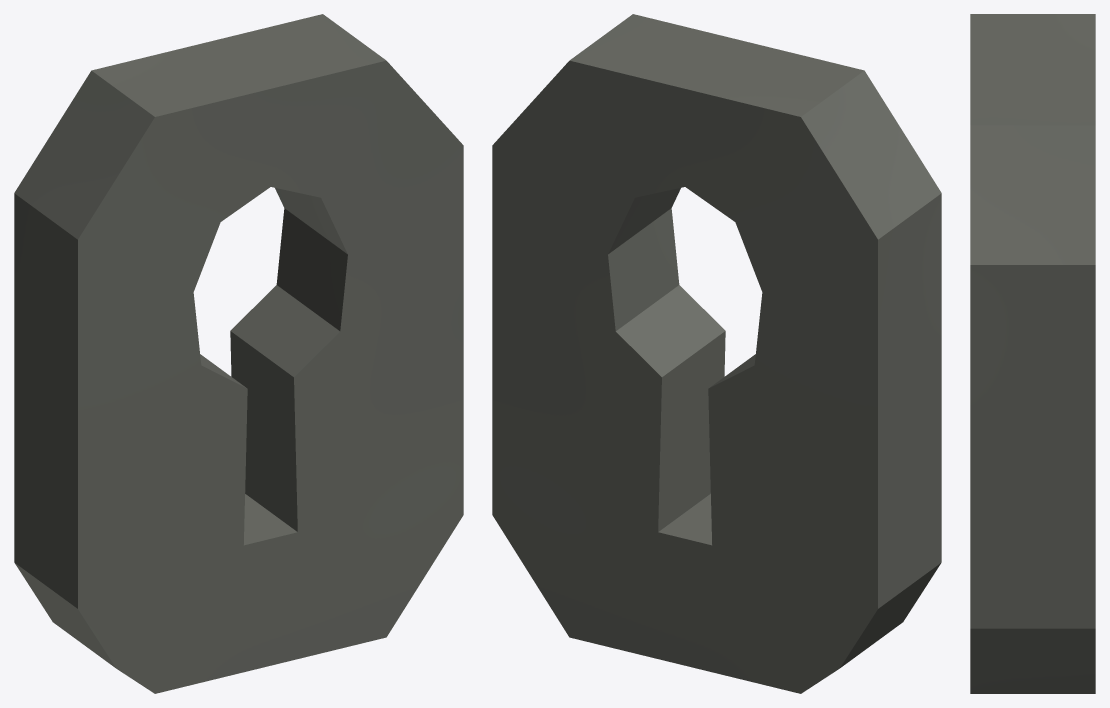
Rendered from WarrensC_WVC036_RedKeyEscutcheon_Mars_SM.fbx.
The picture shows the model from 3 angles, left to right: view 1: azimuth 30°, elevation 25°; view 2: azimuth 150°, elevation 25°; view 3: azimuth 270°, elevation 25°; orthographic projection.
Visible parts, largest first — view 1: WarrensC_WVC036_RedKeyEscutcheon_Mars_SM.001; view 2: WarrensC_WVC036_RedKeyEscutcheon_Mars_SM.001; view 3: WarrensC_WVC036_RedKeyEscutcheon_Mars_SM.001.
Part boxes in pixels (x1,y1,x2,y2): WarrensC_WVC036_RedKeyEscutcheon_Mars_SM.001: [14, 14, 463, 693]; WarrensC_WVC036_RedKeyEscutcheon_Mars_SM.001: [492, 14, 941, 693]; WarrensC_WVC036_RedKeyEscutcheon_Mars_SM.001: [970, 14, 1095, 693].
Bounding box in the file's own units: 35 × 10 × 50.
